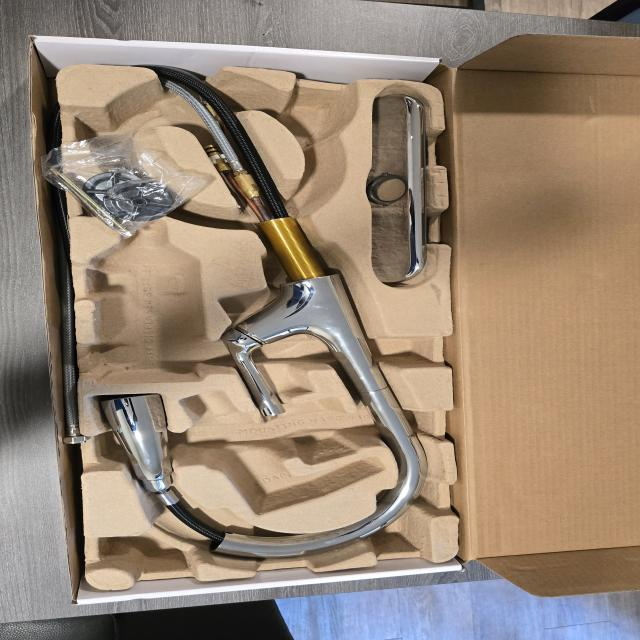1: (101, 65, 426, 560)
2m: (184, 391, 383, 513)
3m: (91, 220, 203, 382)
4: (365, 95, 424, 284)
5m: (279, 96, 343, 138)
6m: (77, 97, 162, 153)
7: (42, 126, 219, 239)
